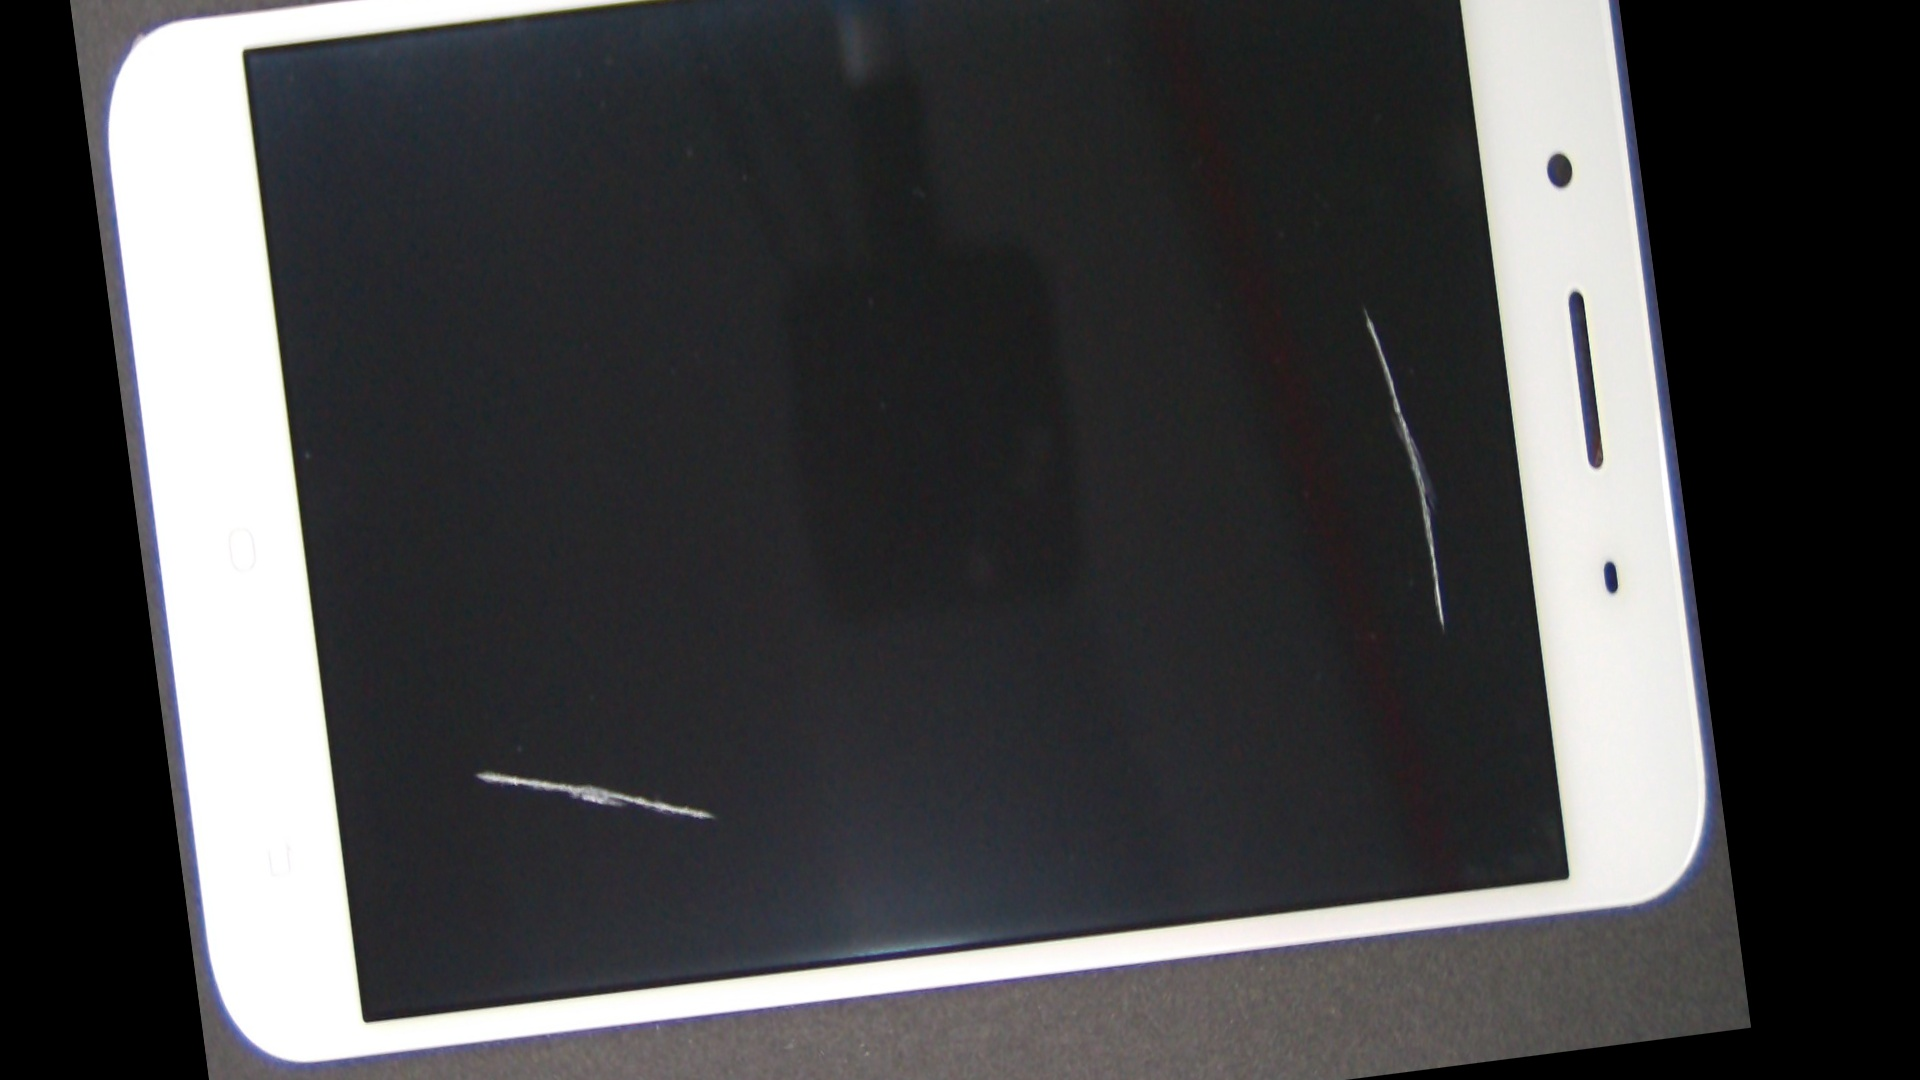oil: (716, 29, 1684, 626), (274, 342, 680, 1080)
